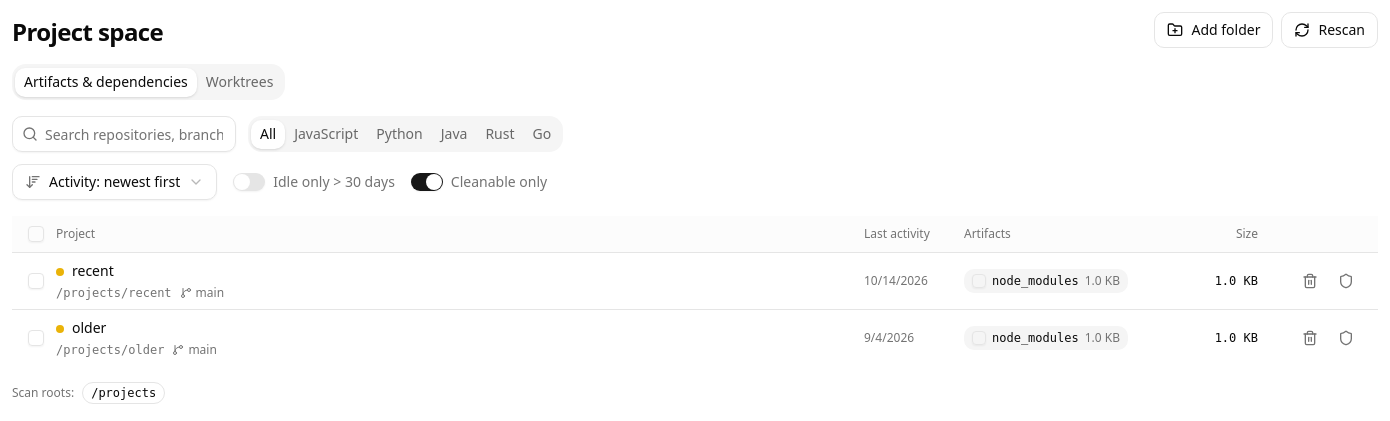
it: project cleanup selection › uses the saved inactivity threshold, not the prototype’s fixed 90 days
Expected: the text "older" is shown, [72,318,106,338]
Click the switch named "Idle only": click(249, 182) [233,173,265,191]
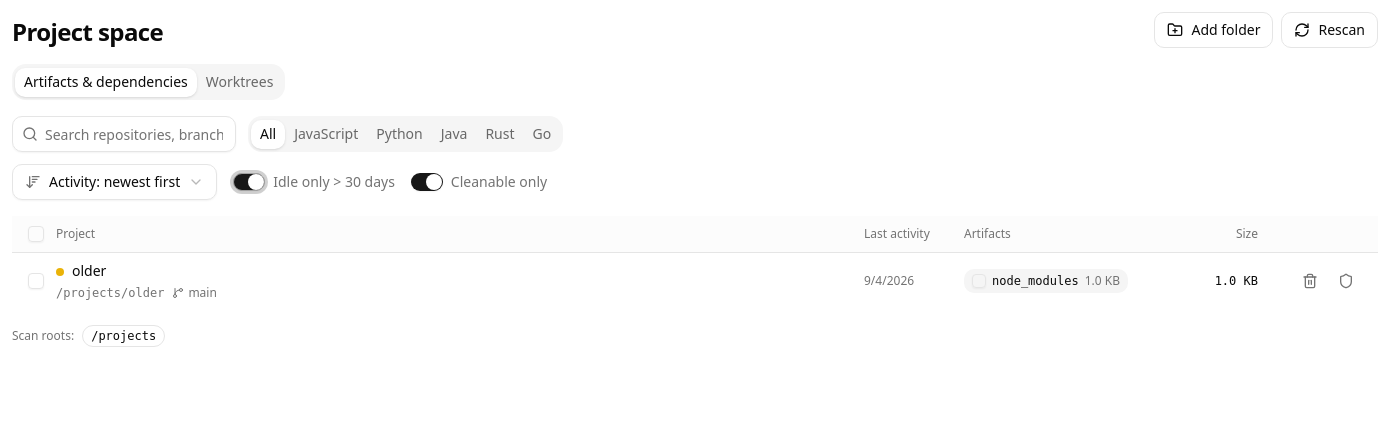
Expected: the text "older" is shown, [72,260,106,280]
Expected: the text "recent" is gone
